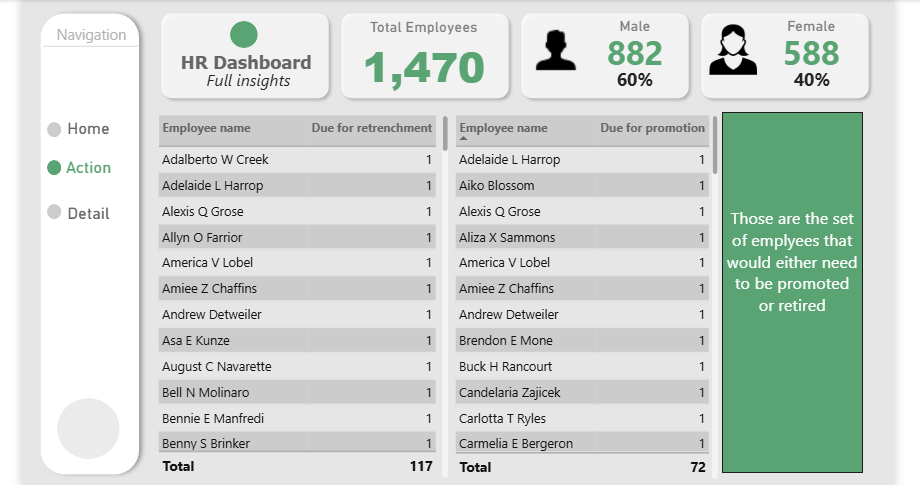

What the dashboard file says about the page in this screenshot:
{"tool":"powerbi","page":{"name":"Action","canvas":[1280,720],"ordinal":2},"visuals":[{"type":"shape","box":[1028.6,166.2,207,530.1],"z":0},{"type":"shape","box":[16.5,9.6,166.5,699.2],"z":1000},{"type":"shape","box":[195.4,12.4,264.3,143.1],"z":2000},{"type":"shape","box":[459.7,12.4,264.3,143.1],"z":3000},{"type":"shape","box":[724,12.4,264.3,143.1],"z":4000},{"type":"shape","box":[988.2,12.4,264.3,143.1],"z":5000},{"type":"textbox","box":[209.7,71.2,238.7,51.4],"z":6000},{"type":"textbox","box":[36.9,33,130.5,51.4],"z":7000},{"type":"textbox","box":[209.7,97.6,251.9,55.4],"z":8000},{"type":"shape","box":[305.9,33,40.9,39.6],"z":9000},{"type":"card","title":"Total Employees","fields":{"Values":["All Measures.Total Emp"]},"box":[468,27.5,246.4,112.9],"z":10000},{"type":"card","title":"Male","fields":{"Values":["All Measures.Male"]},"box":[814.8,26.2,170.7,75.7],"z":11000},{"type":"card","fields":{"Values":["All Measures.Male %"]},"box":[834.1,90.8,132.1,55.1],"z":12000},{"type":"card","title":"Female","fields":{"Values":["All Measures.Female"]},"box":[1068.7,26.2,183.1,75.7],"z":13000},{"type":"card","fields":{"Values":["All Measures.Female %"]},"box":[1083.9,90.8,152.8,53.7],"z":14000},{"type":"image","box":[736.3,26.2,95,90.8],"z":15000},{"type":"image","box":[1004.7,33,79.8,84],"z":16000},{"type":"tableEx","fields":{"Values":["HR employee data.Emplyee name","All Measures.Due for retirment"]},"box":[195.4,166.5,436.3,542.3],"z":17000},{"type":"tableEx","fields":{"Values":["HR employee data.Emplyee name","All Measures.Due for promotion"]},"box":[631.7,166.5,396.4,543.7],"z":18000},{"type":"textbox","box":[1029.3,299.6,206.6,217.4],"z":19000},{"type":"shape","box":[36.9,300.7,21.1,22.4],"z":20000},{"type":"actionButton","title":"Detail","box":[27.7,300.7,139.8,58],"z":21000},{"type":"shape","box":[36.9,236,21.1,22.4],"z":22000},{"type":"actionButton","title":"Action","box":[27.7,233.4,139.8,65.9],"z":23000},{"type":"shape","box":[36.9,180.7,21.1,22.4],"z":24000},{"type":"actionButton","title":"Home","box":[27.7,176.7,139.8,56.7],"z":25000},{"type":"shape","box":[51.4,586.8,92.3,89.7],"z":26000},{"type":"shape","box":[30.2,61.6,140.1,15.7],"z":27000}]}

Visuals, with their boxes on the page's 1280x720 design canvas (x1, y1, x2, y2). These are canvas units, not pixel positions in the 920x485 screenshot, which may show the page scaled, cropped or inside an application window:
shape: (1029,166,1236,696)
shape: (16,10,183,709)
shape: (195,12,460,156)
shape: (460,12,724,156)
shape: (724,12,988,156)
shape: (988,12,1252,156)
textbox: (210,71,448,123)
textbox: (37,33,167,84)
textbox: (210,98,462,153)
shape: (306,33,347,73)
"Total Employees" card: (468,28,714,140)
"Male" card: (815,26,986,102)
card - All Measures.Male %: (834,91,966,146)
"Female" card: (1069,26,1252,102)
card - All Measures.Female %: (1084,91,1237,144)
image: (736,26,831,117)
image: (1005,33,1084,117)
tableEx - HR employee data.Emplyee name x All Measures.Due for retirment: (195,166,632,709)
tableEx - HR employee data.Emplyee name x All Measures.Due for promotion: (632,166,1028,710)
textbox: (1029,300,1236,517)
shape: (37,301,58,323)
"Detail" actionButton: (28,301,168,359)
shape: (37,236,58,258)
"Action" actionButton: (28,233,168,299)
shape: (37,181,58,203)
"Home" actionButton: (28,177,168,233)
shape: (51,587,144,676)
shape: (30,62,170,77)
